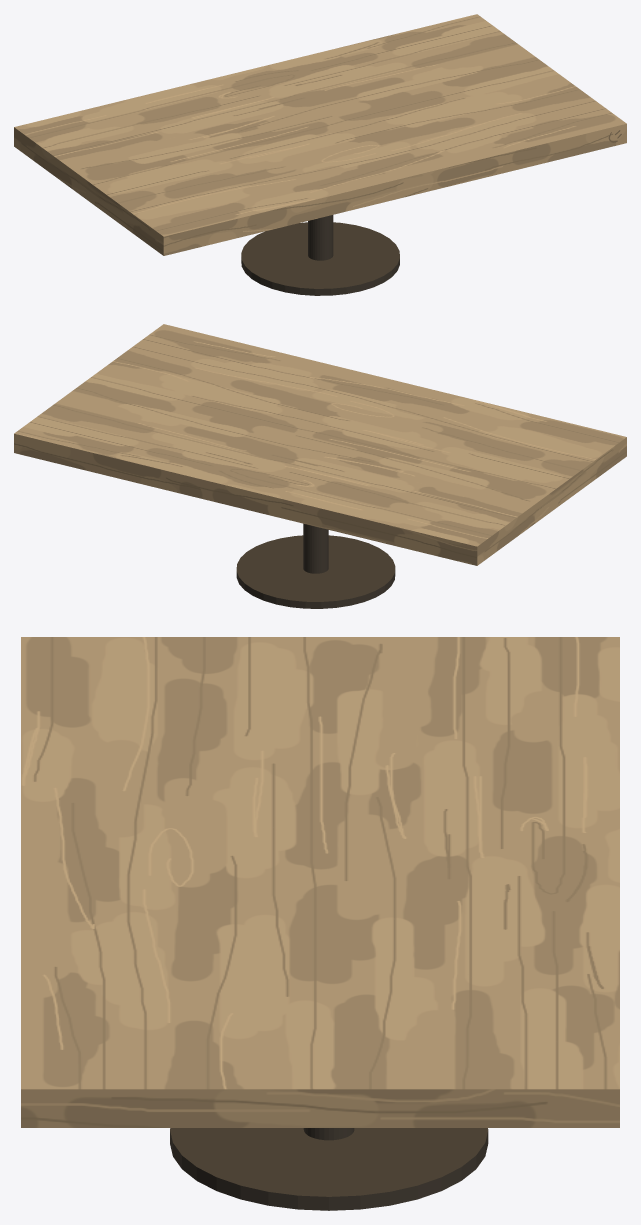
File: Table.fbx
The picture shows the model from 3 angles, top to bottom: view 1: azimuth 30°, elevation 25°; view 2: azimuth 150°, elevation 25°; view 3: azimuth 270°, elevation 25°; orthographic projection. The views are drawn at different scales.
Parts seen in each view (by area): view 1: Cylinder.014; view 2: Cylinder.014; view 3: Cylinder.014.
Part boxes in pixels (x1,y1,x2,y2): Cylinder.014: (14, 14, 626, 295); Cylinder.014: (14, 324, 626, 608); Cylinder.014: (21, 637, 619, 1210).
Size of the model in its own units: 2500 by 717 by 1400.
Materials: 2 (2 with a texture image).
